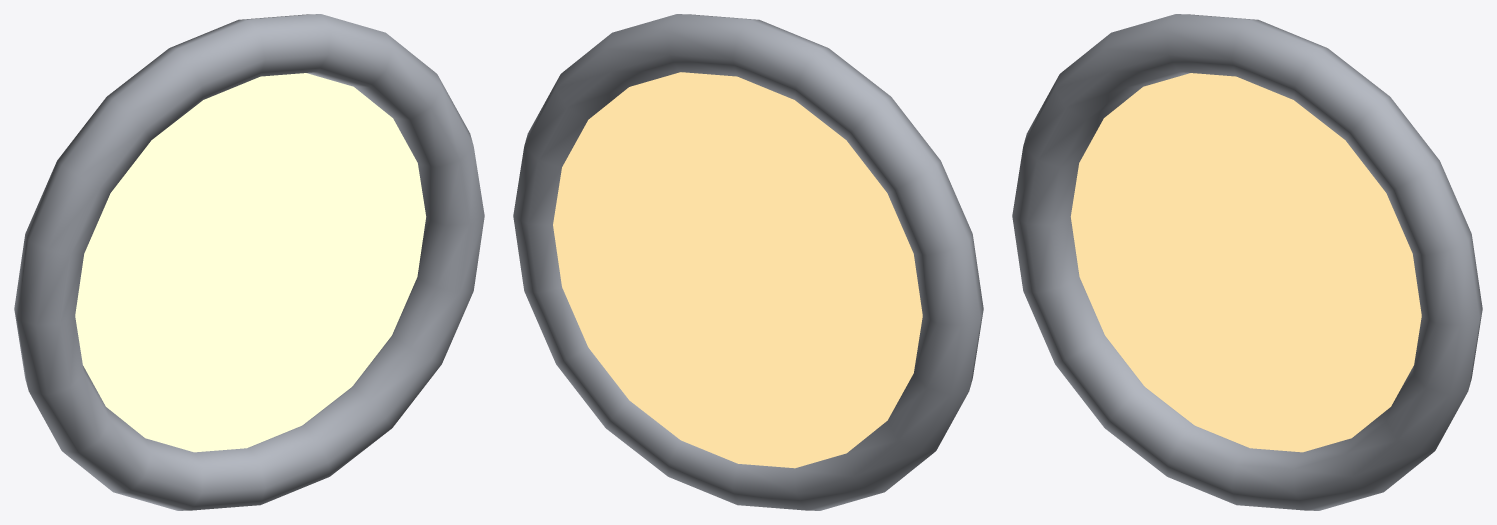
File: round-window.gltf
The picture shows the model from 3 angles, left to right: view 1: azimuth 30°, elevation 25°; view 2: azimuth 150°, elevation 25°; view 3: azimuth 330°, elevation 25°; orthographic projection.
Parts seen in each view (by area): view 1: Glass, Frame; view 2: Glass, Frame; view 3: Glass, Frame.
Boxes of the visible parts, box(x1,y1,x2,y2) form: Glass: box(75, 73, 426, 452); Frame: box(14, 14, 484, 510); Glass: box(553, 72, 922, 468); Frame: box(513, 14, 983, 510); Glass: box(1070, 73, 1421, 452); Frame: box(1012, 14, 1482, 510).
Size of the model in its own units: 1.02 by 1.02 by 0.12.
